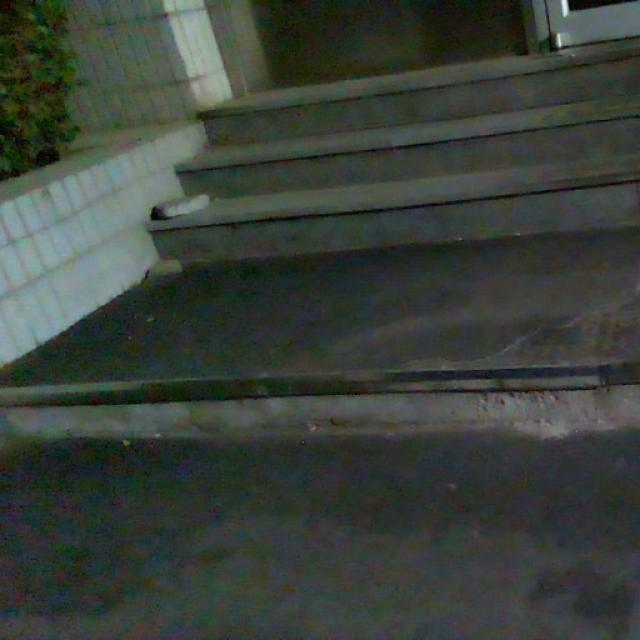Stairs: (0, 36, 638, 273), (0, 358, 640, 449)
